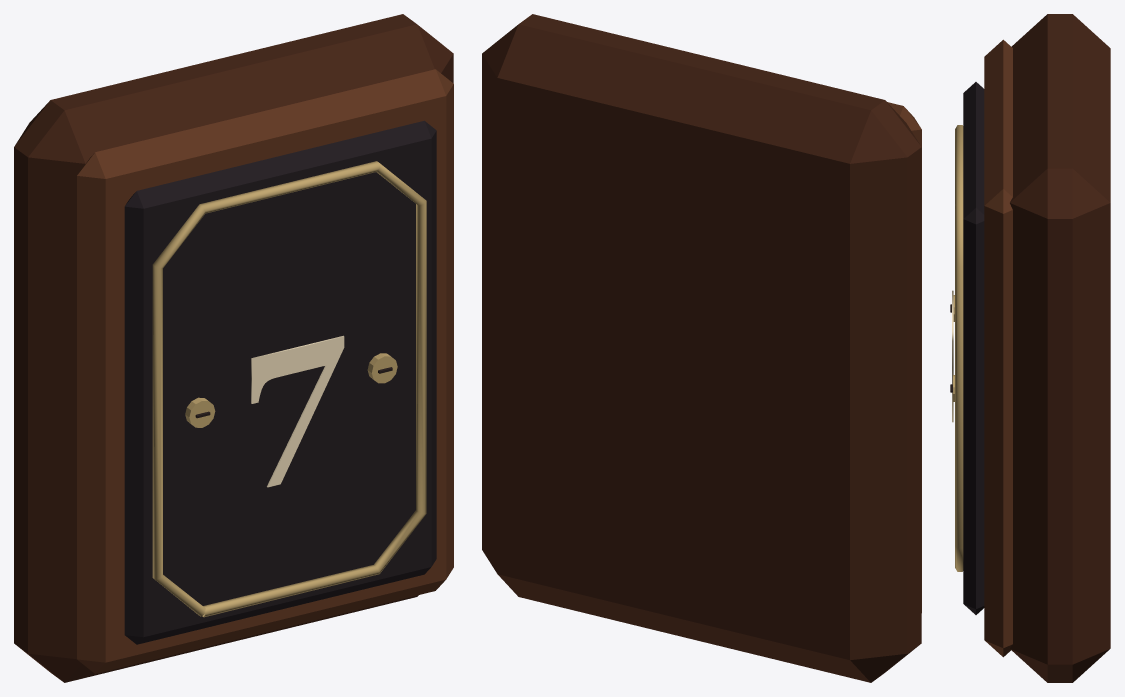
The model's file is BedroomNumber07.glb.
3 views of the same model, side by side, from view 1: azimuth 30°, elevation 25°; view 2: azimuth 150°, elevation 25°; view 3: azimuth 270°, elevation 25° (orthographic). The views are drawn at different scales.
Parts seen in each view (by area): view 1: EnamelFace.013, BevelledOak.013, OakMoulding.013, GoldCartouche.013, Lettering_7, FlushBrassFixing.027, FlushBrassFixing.026; view 2: BevelledOak.013, OakMoulding.013; view 3: BevelledOak.013, OakMoulding.013, EnamelFace.013, GoldCartouche.013.
Boxes of the visible parts, <box> form: EnamelFace.013: <box>124,120,436,644</box>; BevelledOak.013: <box>14,14,453,682</box>; OakMoulding.013: <box>77,69,453,673</box>; GoldCartouche.013: <box>152,161,426,617</box>; Lettering_7: <box>251,335,344,487</box>; FlushBrassFixing.027: <box>367,353,397,383</box>; FlushBrassFixing.026: <box>185,397,215,427</box>; BevelledOak.013: <box>482,14,921,682</box>; OakMoulding.013: <box>887,102,921,612</box>; BevelledOak.013: <box>1010,14,1110,682</box>; OakMoulding.013: <box>984,39,1012,657</box>; EnamelFace.013: <box>963,82,984,614</box>; GoldCartouche.013: <box>955,125,963,571</box>.
Bounding box in the file's own units: 1.05 × 1.35 × 0.381.
